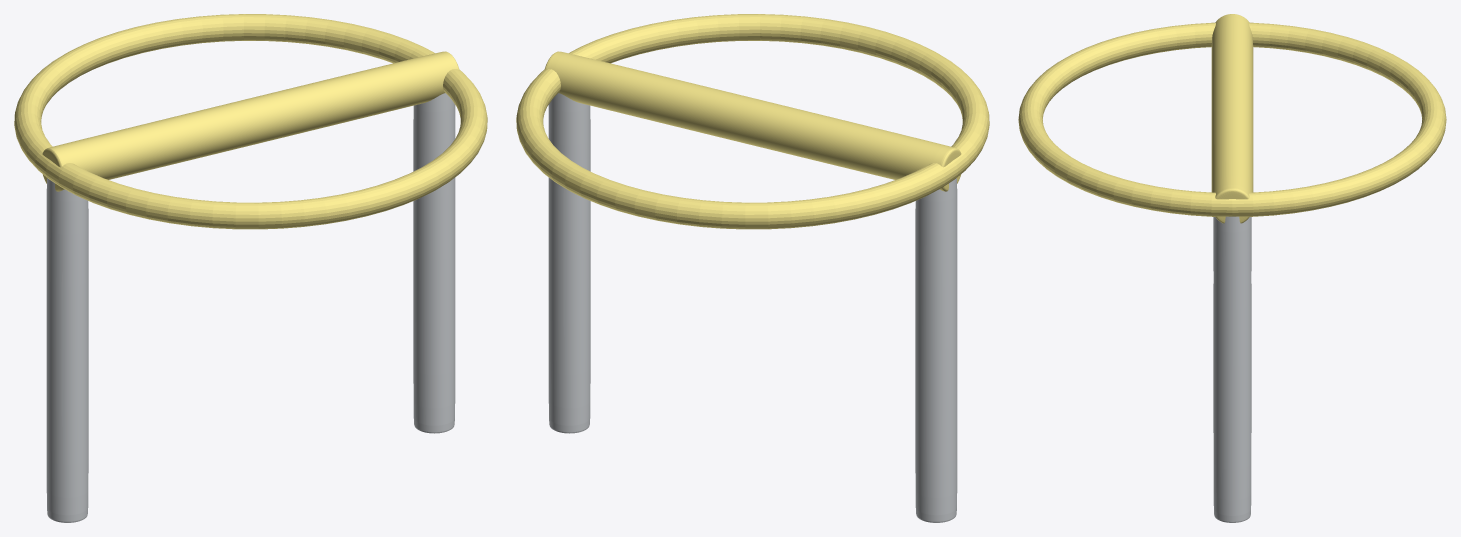
Rendered from Toy_VaultRail_100_Hi.fbx.
The picture shows the model from 3 angles, left to right: view 1: azimuth 30°, elevation 25°; view 2: azimuth 150°, elevation 25°; view 3: azimuth 270°, elevation 25°; orthographic projection. The views are drawn at different scales.
Parts seen in each view (by area): view 1: Lip, Rail, Post_-0.55, Post_0.55; view 2: Lip, Rail, Post_-0.55, Post_0.55; view 3: Lip, Post_0.55, Rail.
Part boxes in pixels (<box>): Lip: <box>14,14,487,229</box>; Rail: <box>42,51,459,191</box>; Post_-0.55: <box>46,178,88,522</box>; Post_0.55: <box>413,93,455,433</box>; Lip: <box>516,14,989,229</box>; Rail: <box>544,51,961,191</box>; Post_-0.55: <box>915,178,957,522</box>; Post_0.55: <box>548,93,590,433</box>; Lip: <box>1018,22,1446,216</box>; Post_0.55: <box>1213,216,1251,522</box>; Rail: <box>1211,14,1253,223</box>.
Bounding box in the file's own units: 1.23 × 1.06 × 1.23.
